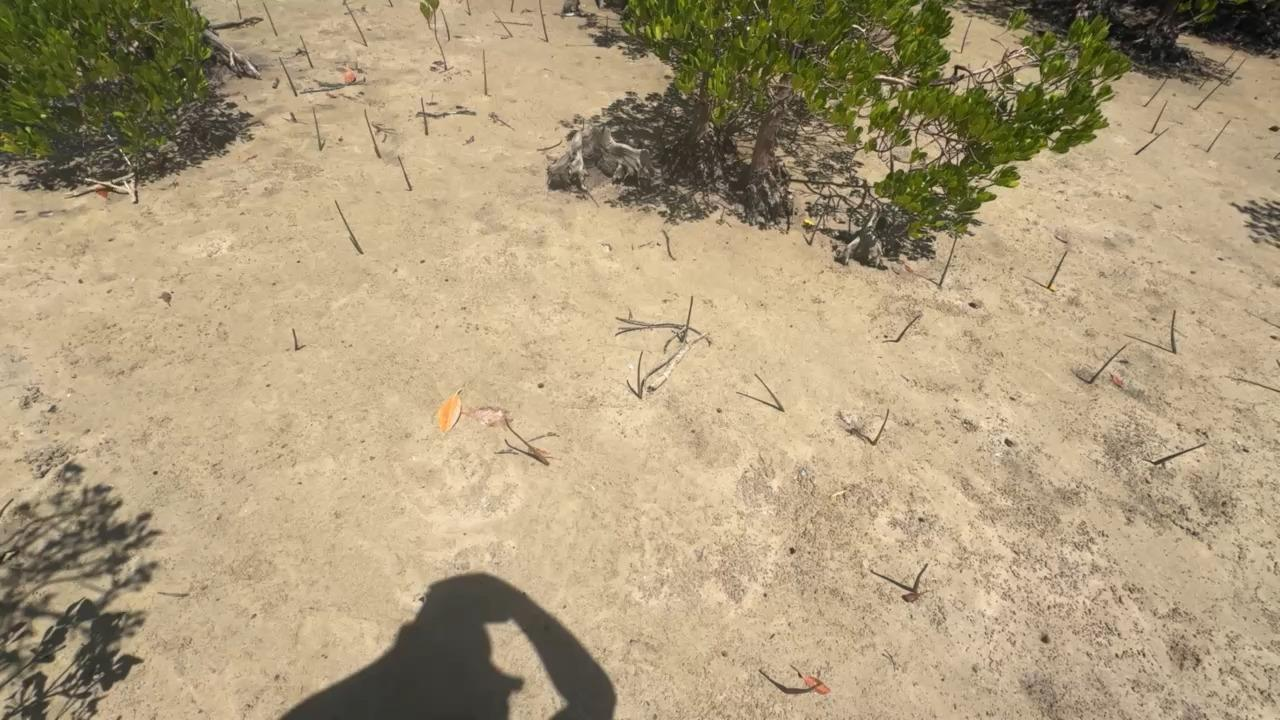Tree: (333, 198, 364, 255), (1088, 343, 1128, 385), (1194, 70, 1230, 112), (1153, 441, 1206, 467), (753, 371, 785, 413), (342, 0, 369, 47), (938, 235, 959, 288), (1134, 127, 1170, 156), (363, 108, 383, 159), (1206, 119, 1232, 153), (1046, 249, 1067, 290), (871, 407, 891, 447), (1143, 77, 1168, 109), (279, 55, 298, 97), (895, 315, 923, 343), (396, 155, 413, 191), (298, 33, 315, 68), (1150, 102, 1168, 134), (262, 3, 278, 37), (911, 564, 929, 594), (494, 11, 514, 38), (537, 0, 548, 45), (311, 107, 322, 152), (1170, 309, 1180, 354), (960, 20, 973, 54), (439, 8, 451, 42), (420, 97, 430, 137), (1230, 57, 1246, 78), (482, 48, 488, 96), (1198, 71, 1208, 90), (291, 328, 299, 350), (235, 0, 243, 20), (466, 0, 472, 15), (511, 0, 514, 13), (388, 0, 393, 7)
